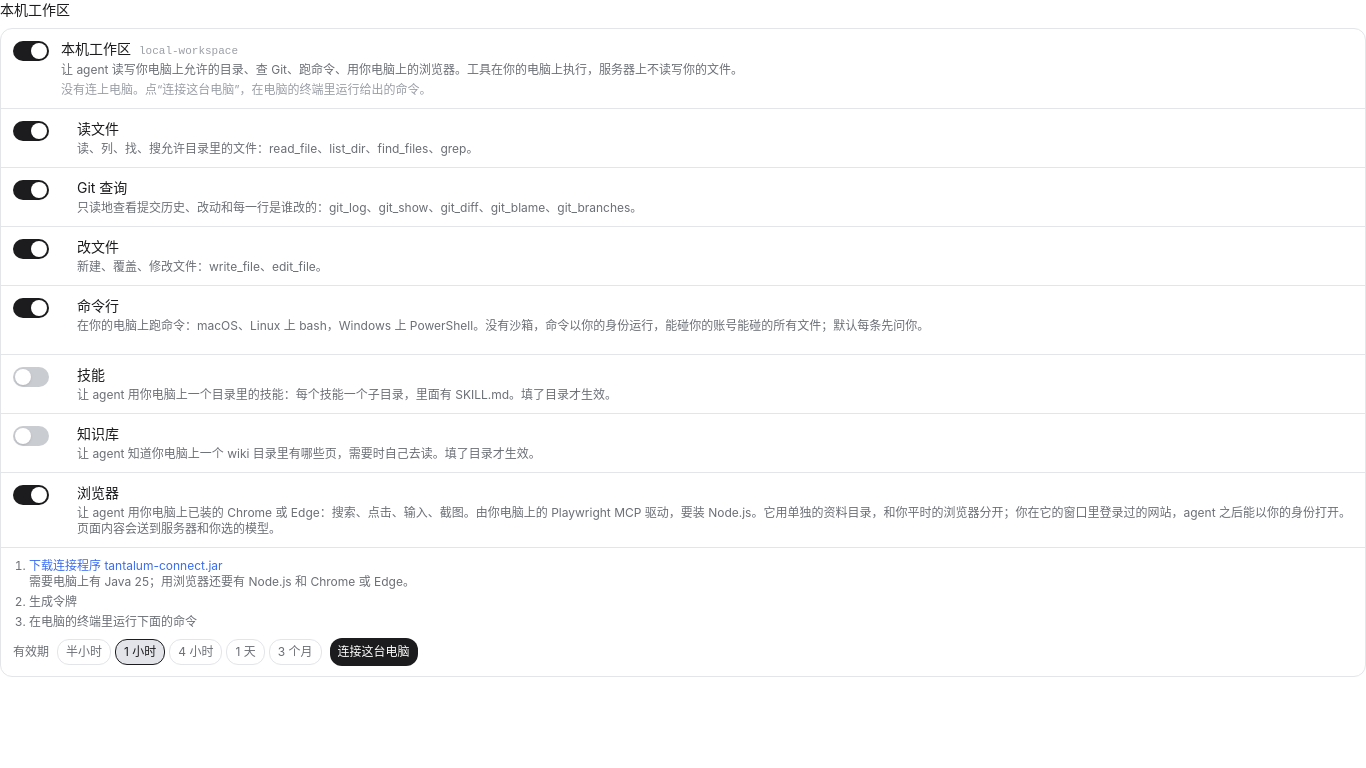
LocalWorkspaceCard › issues a token with the chosen validity, shows the command once and can revoke it
The image size is (1366, 768).
What coordinates should you click on to do the following:
click the radio button labelled "4 小时"
I would click on:
 (196, 652)
Its box is [169,639,222,665].
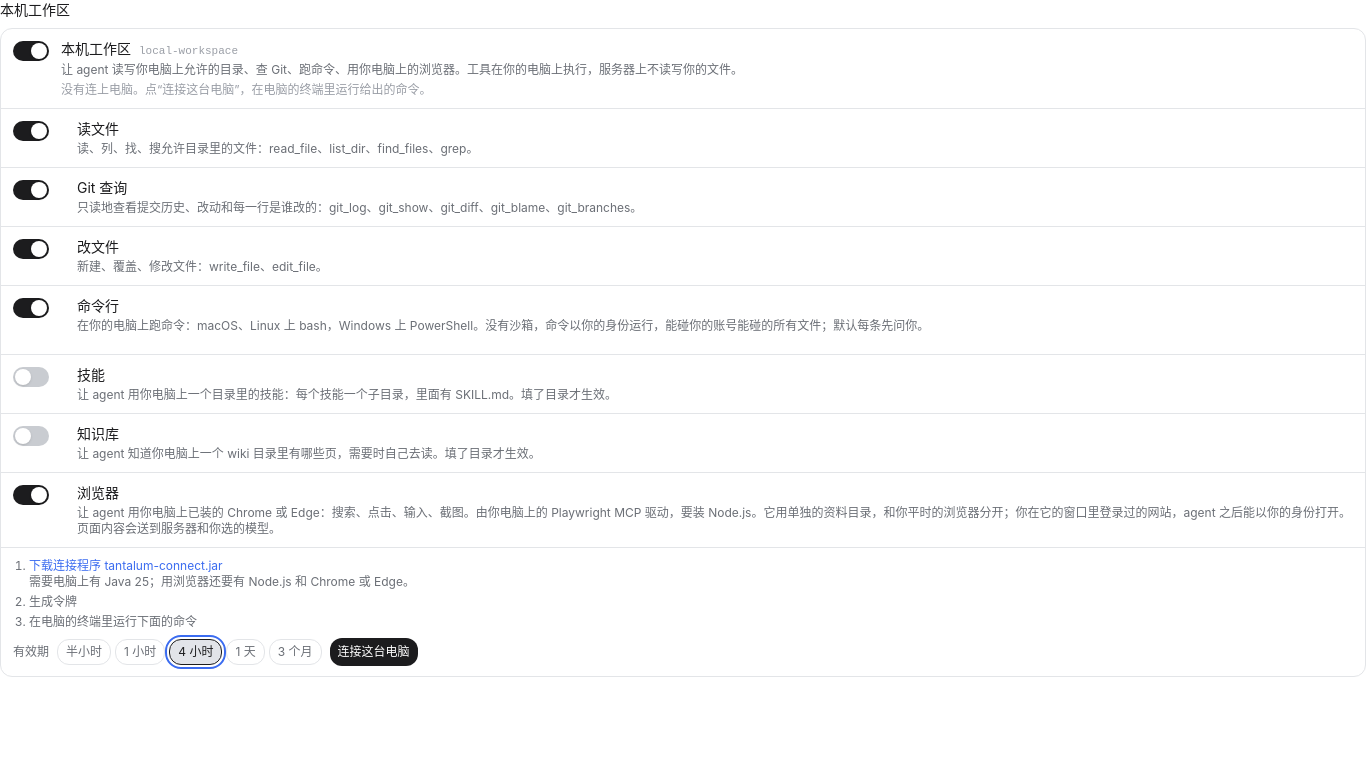
What coordinates should you click on to do the following:
click the button "连接这台电脑"
I would click on:
 (374, 652)
Its box is [330,638,418,666].
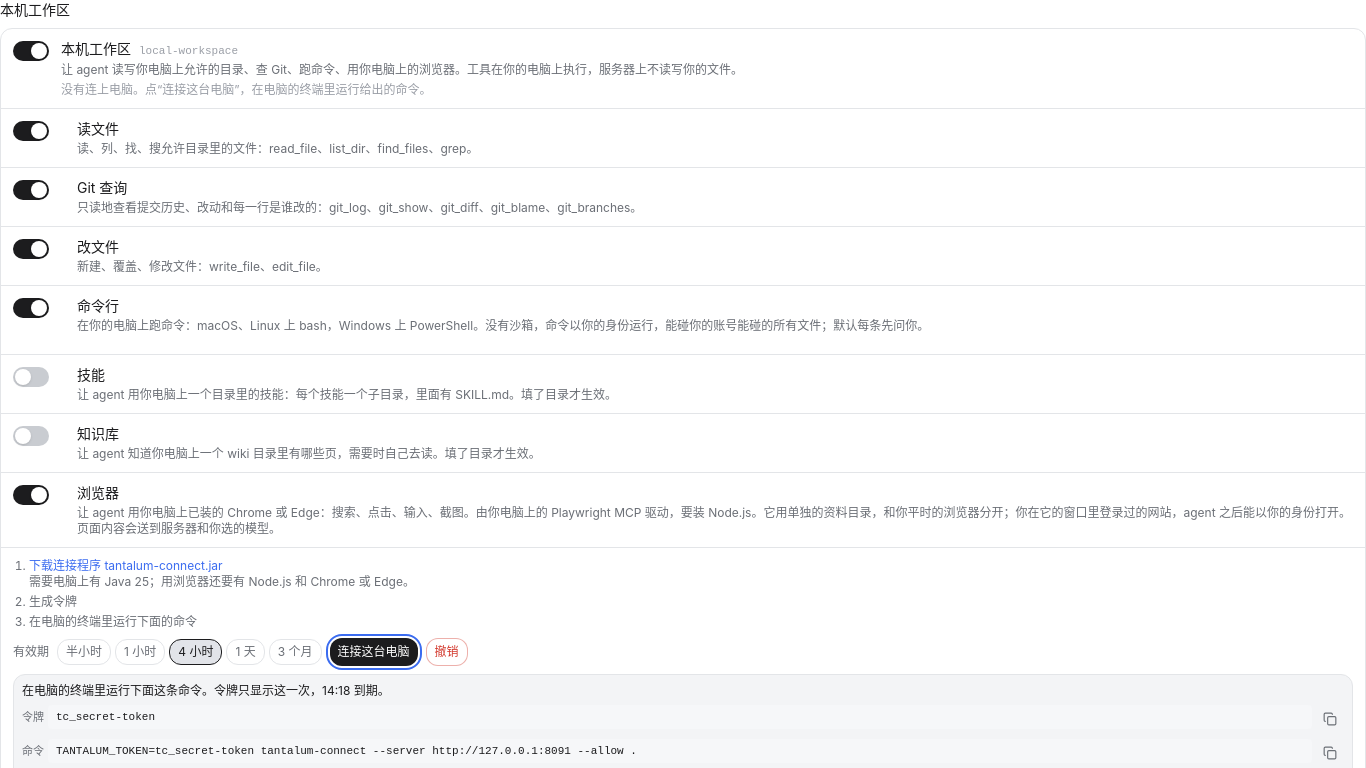
Now the text "TANTALUM_TOKEN=tc_secret-token tantalum-connect" shows "--server http://127.0.0.1:8091", box [56,745,637,757]
Now the text "在电脑的终端里运行下面这条命令。令牌只显示这一次，14:18 到期。" is shown, box [22,683,390,698]
What coordinates should you click on to do the following:
click the button "撤销"
I would click on:
 (446, 652)
Its box is [426,638,468,666].
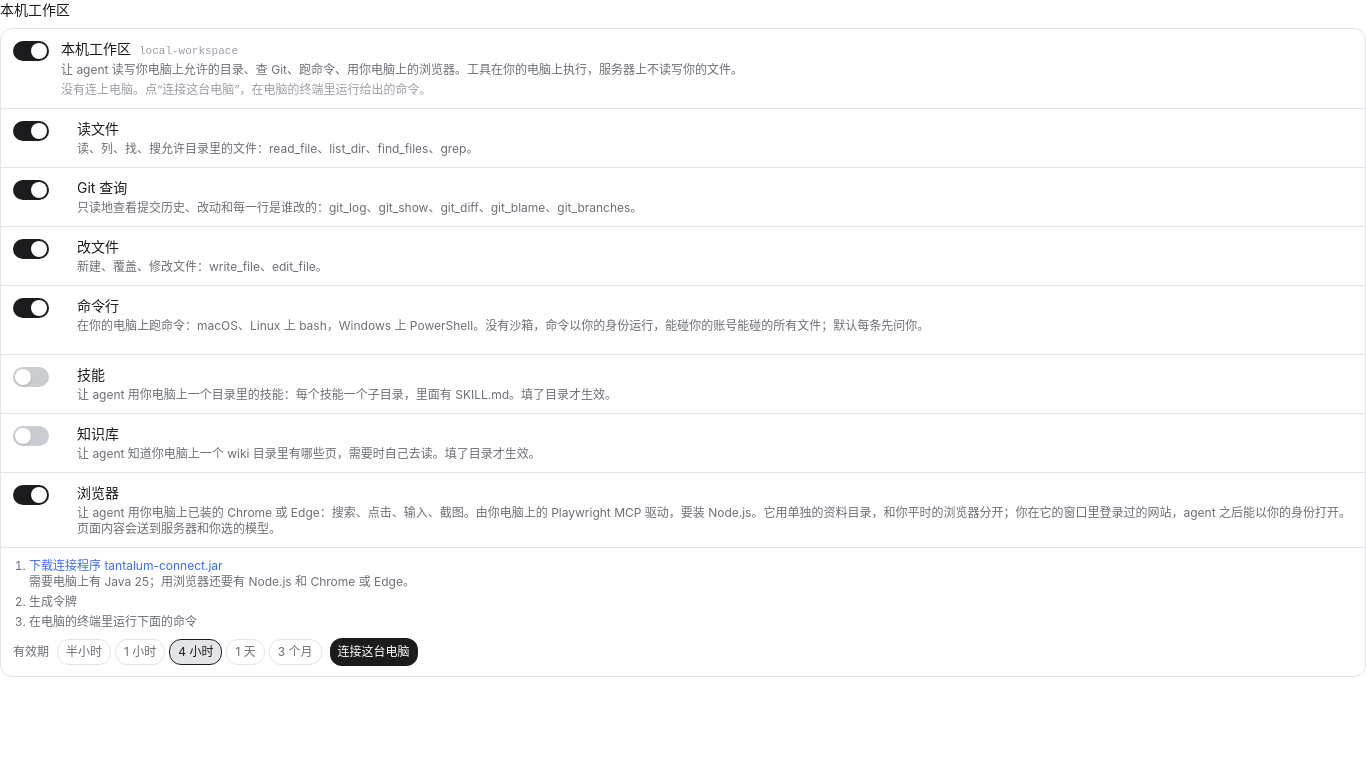
Now the text "tc_secret-token" is gone
